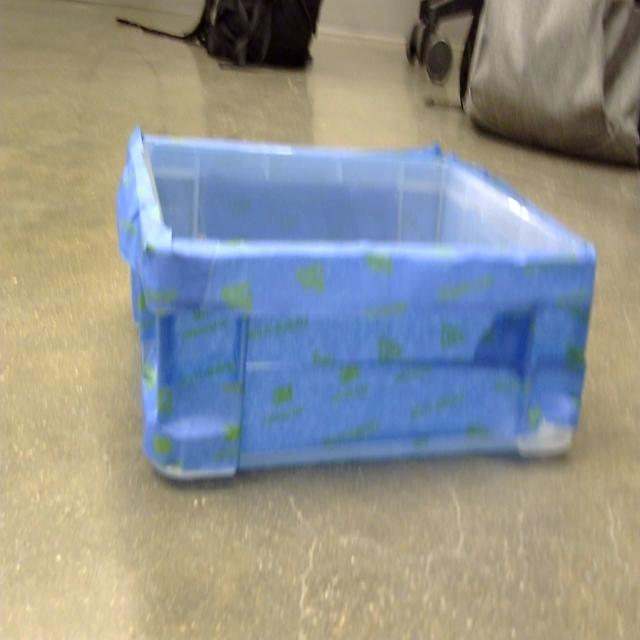bucket: (115, 128, 597, 488)
